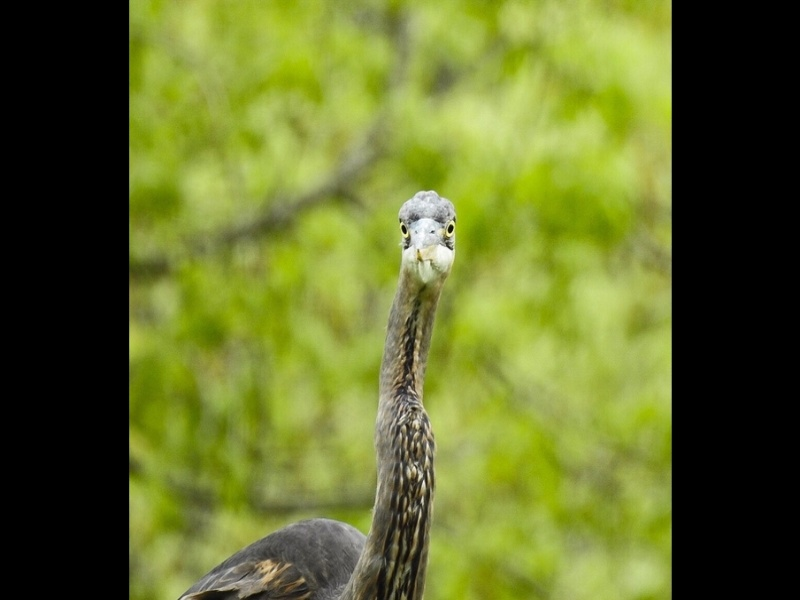heron: (179, 189, 471, 595)
